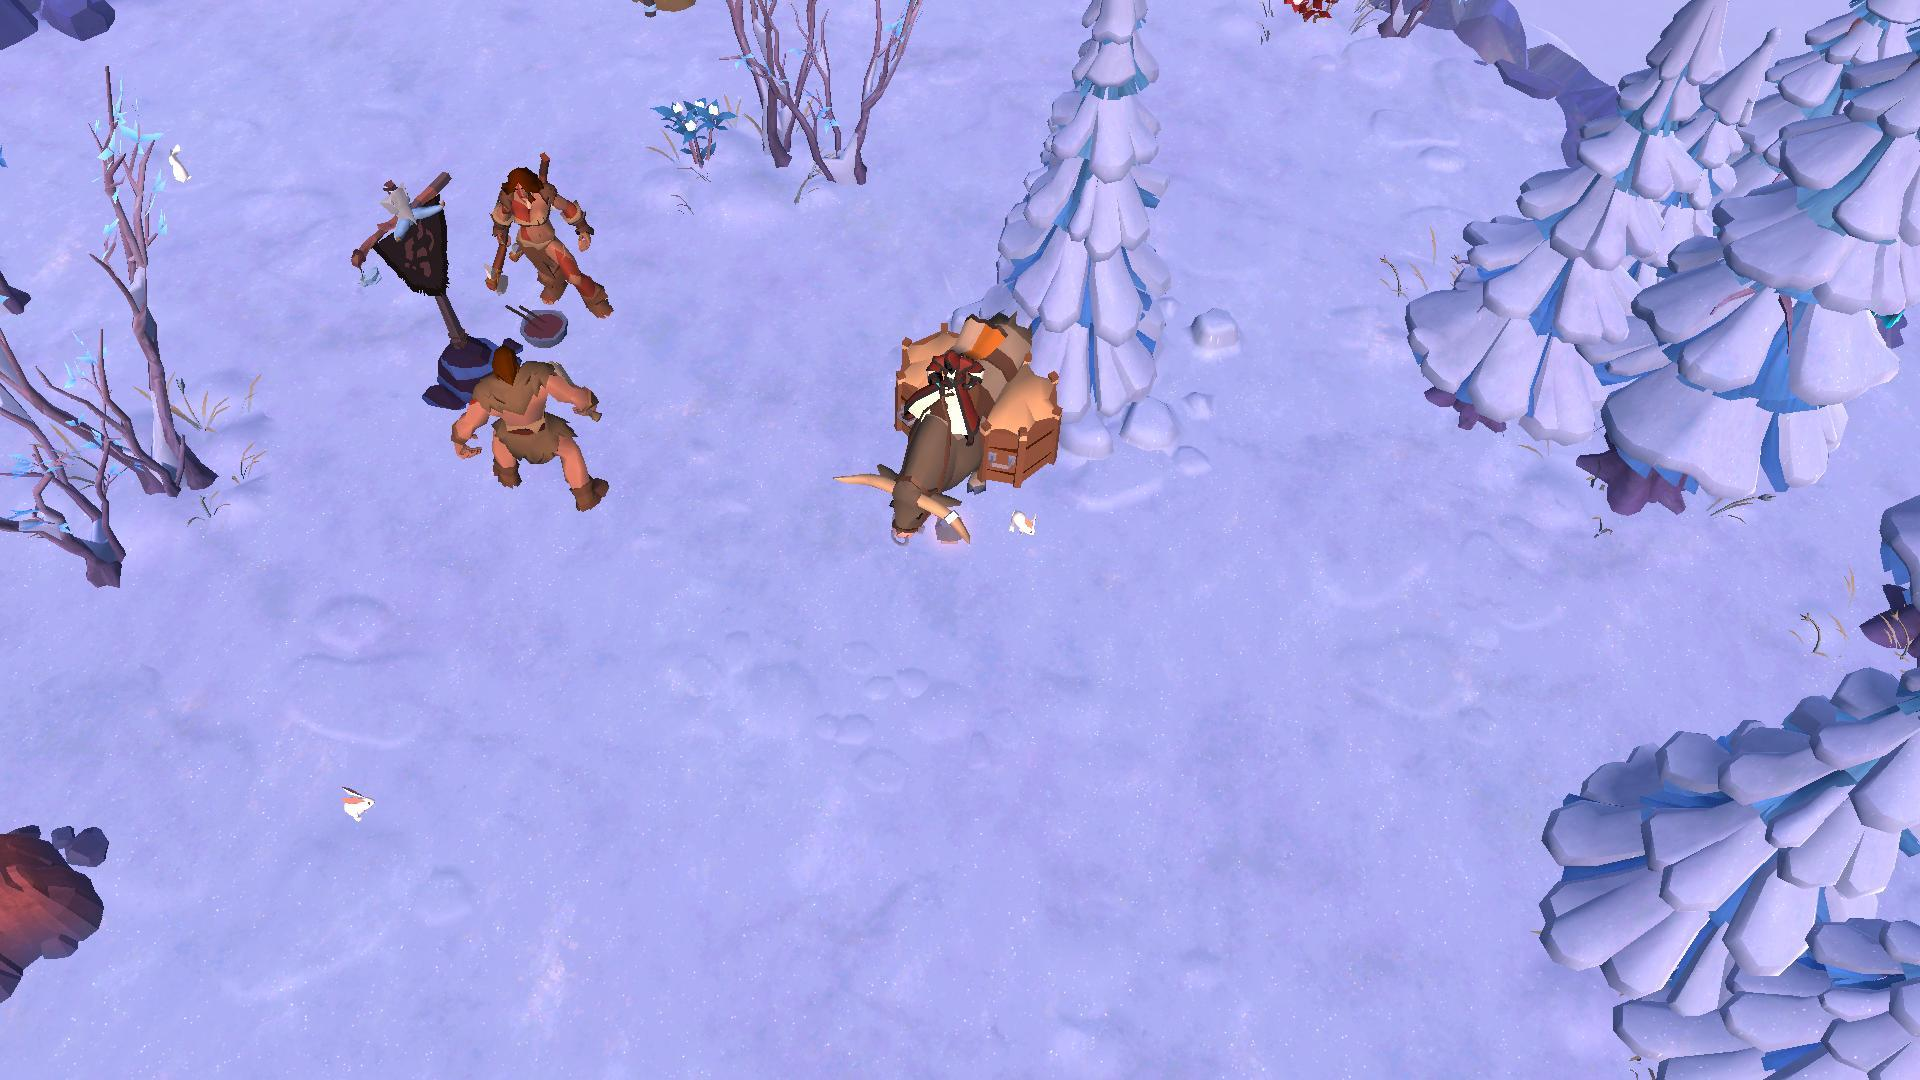enemy_factionKeeper: (467, 342, 628, 518), (485, 150, 622, 315)
fiber_t4: (653, 94, 736, 178)
rock_t5: (0, 804, 107, 986)
